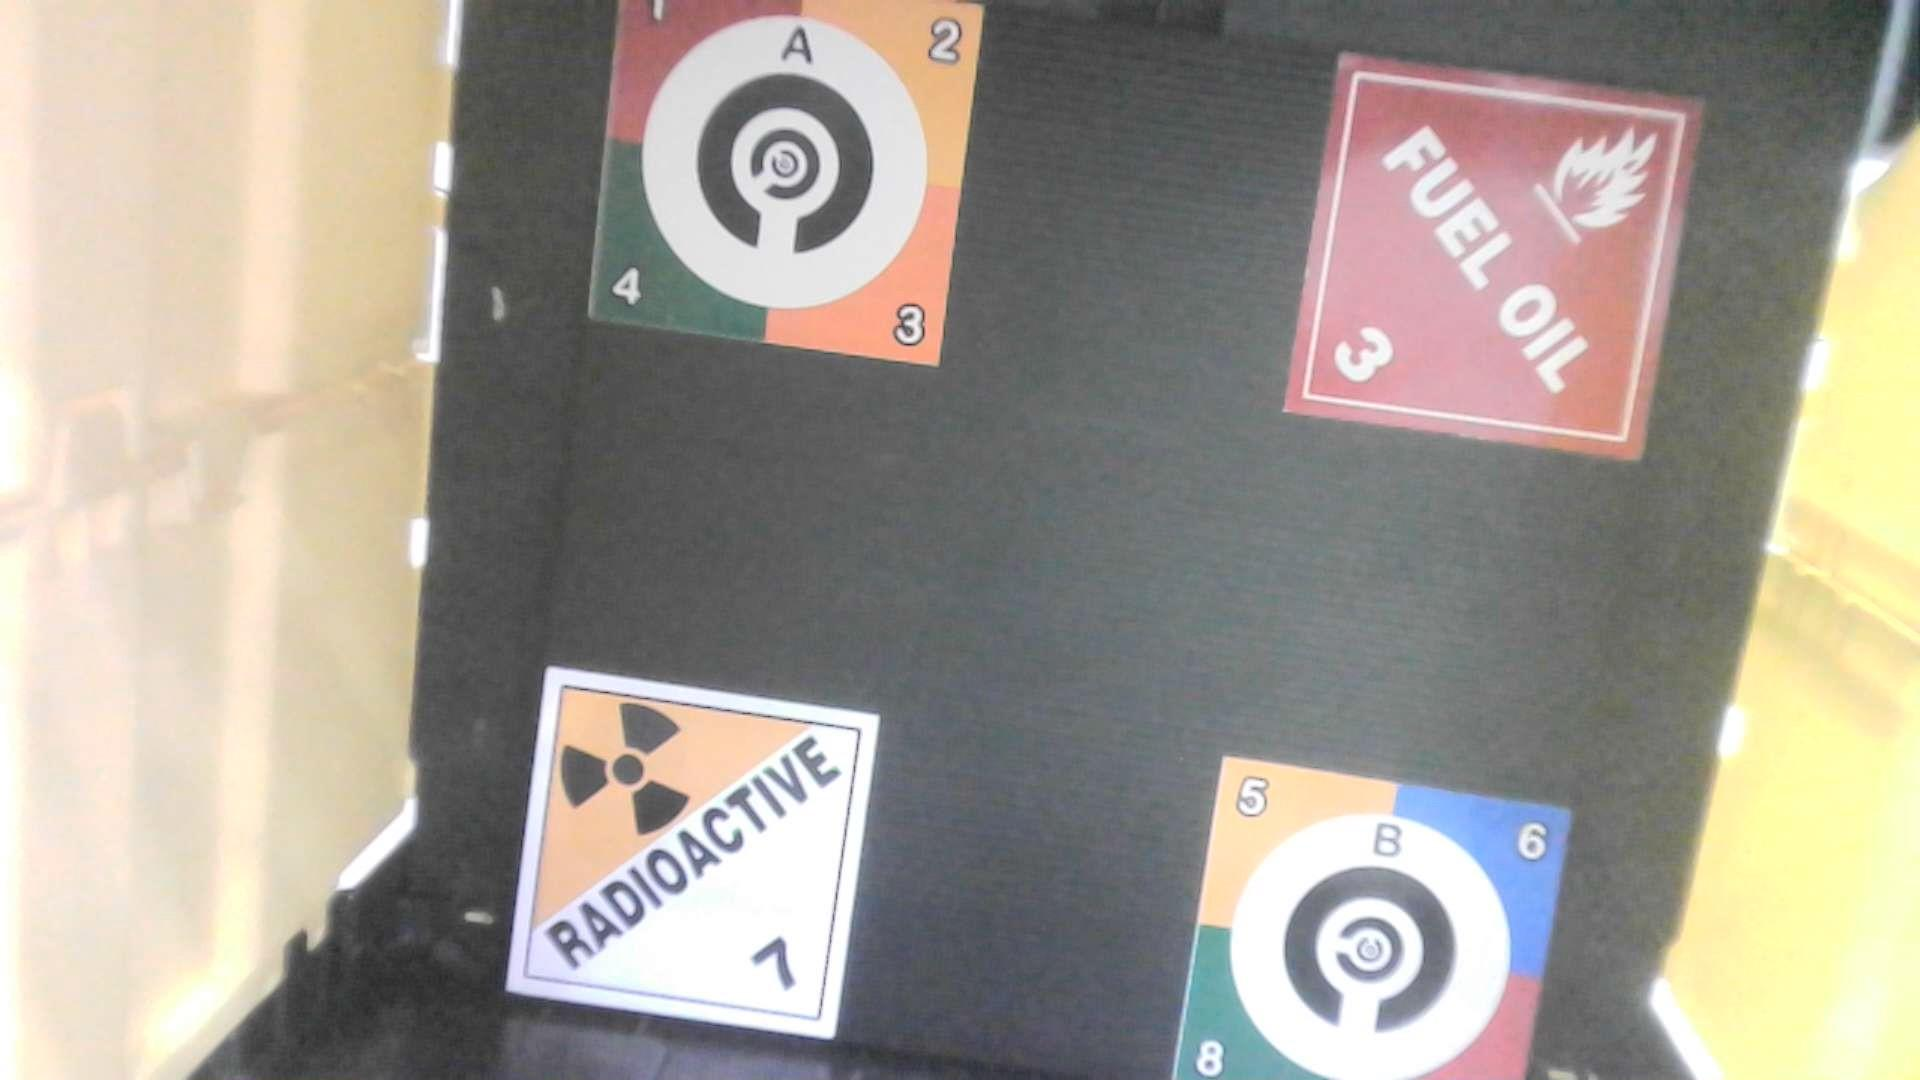flammable: (1287, 47, 1722, 473)
radioactive: (509, 665, 880, 1042)
